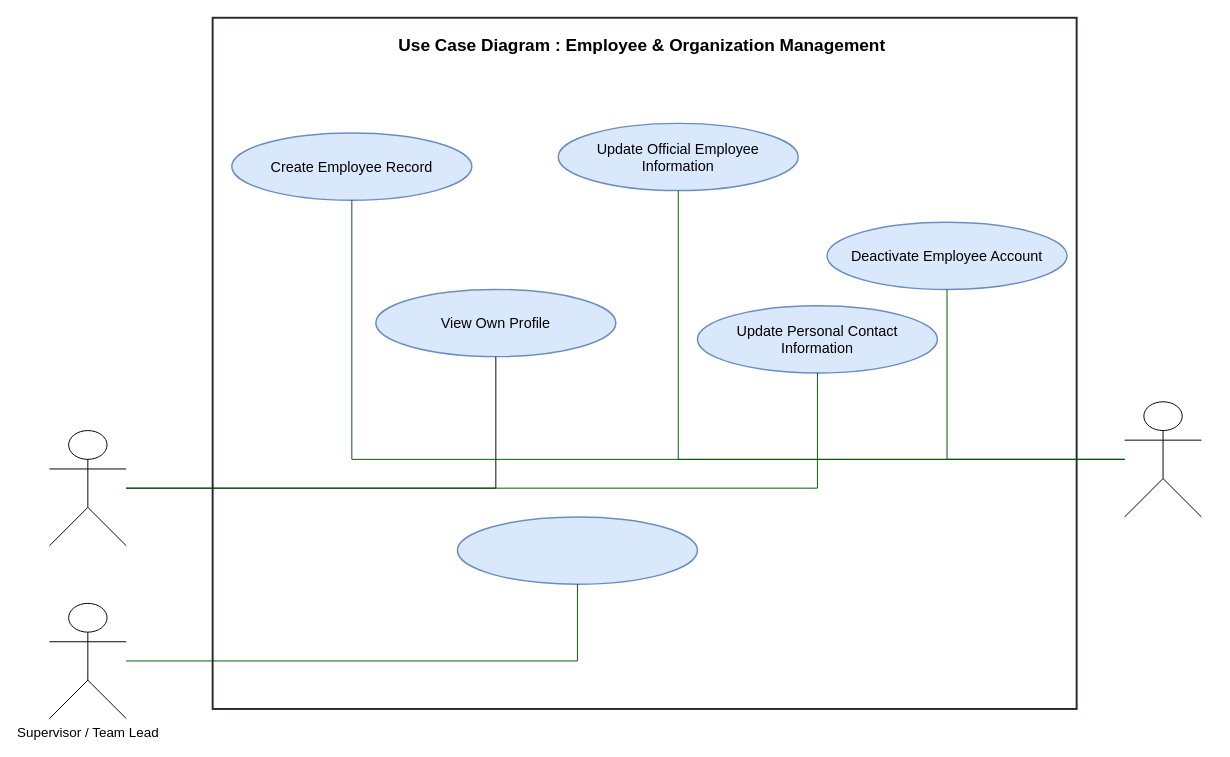
The diagram is 1230 pixels wide and 757 high, and some of its shapes have lost their labels. Each missing label, with the centre of its shape:
Employee: (87,488)
Manager / Admin: (1162,459)
View Team Employees: (577,550)
